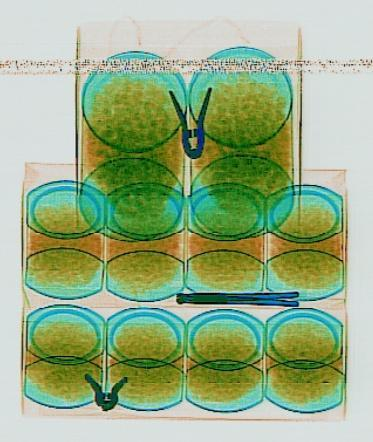Pliers: (167, 85, 214, 159), (175, 289, 298, 305)
